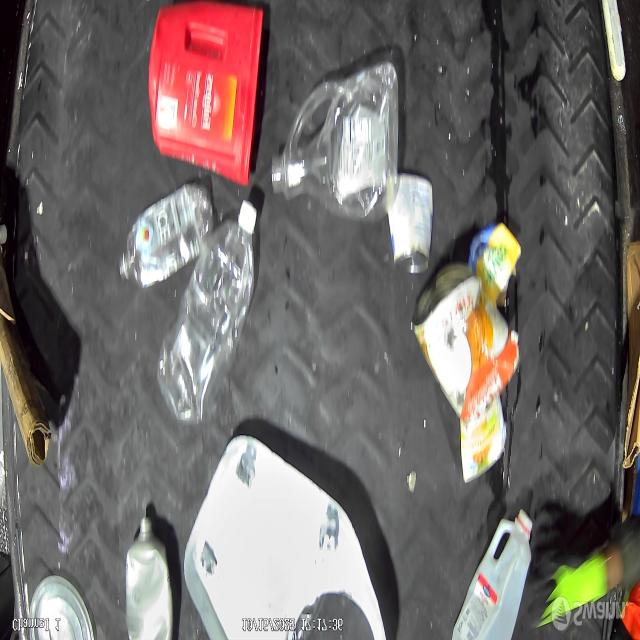can: (411, 261, 521, 428), (388, 158, 438, 275)
milk_jug: (442, 501, 533, 640)
non_white_jug: (146, 1, 268, 188)
plastic_bottle: (160, 202, 259, 423), (271, 56, 399, 217), (115, 167, 217, 289)
